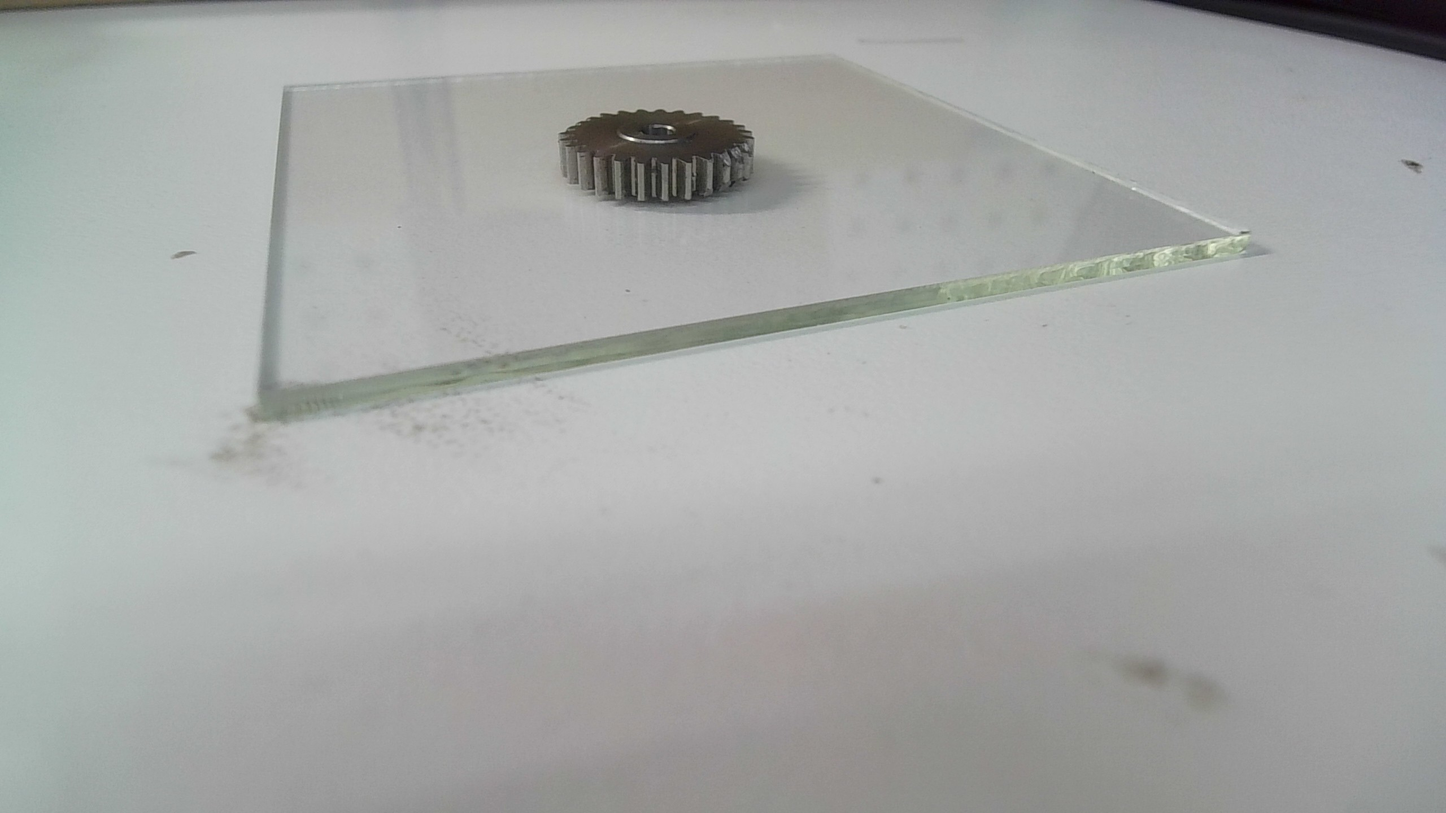gear: (556, 108, 759, 208)
